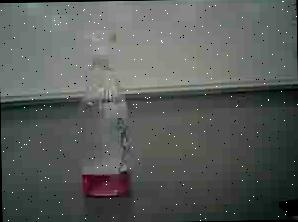hazard: (72, 27, 144, 204)
